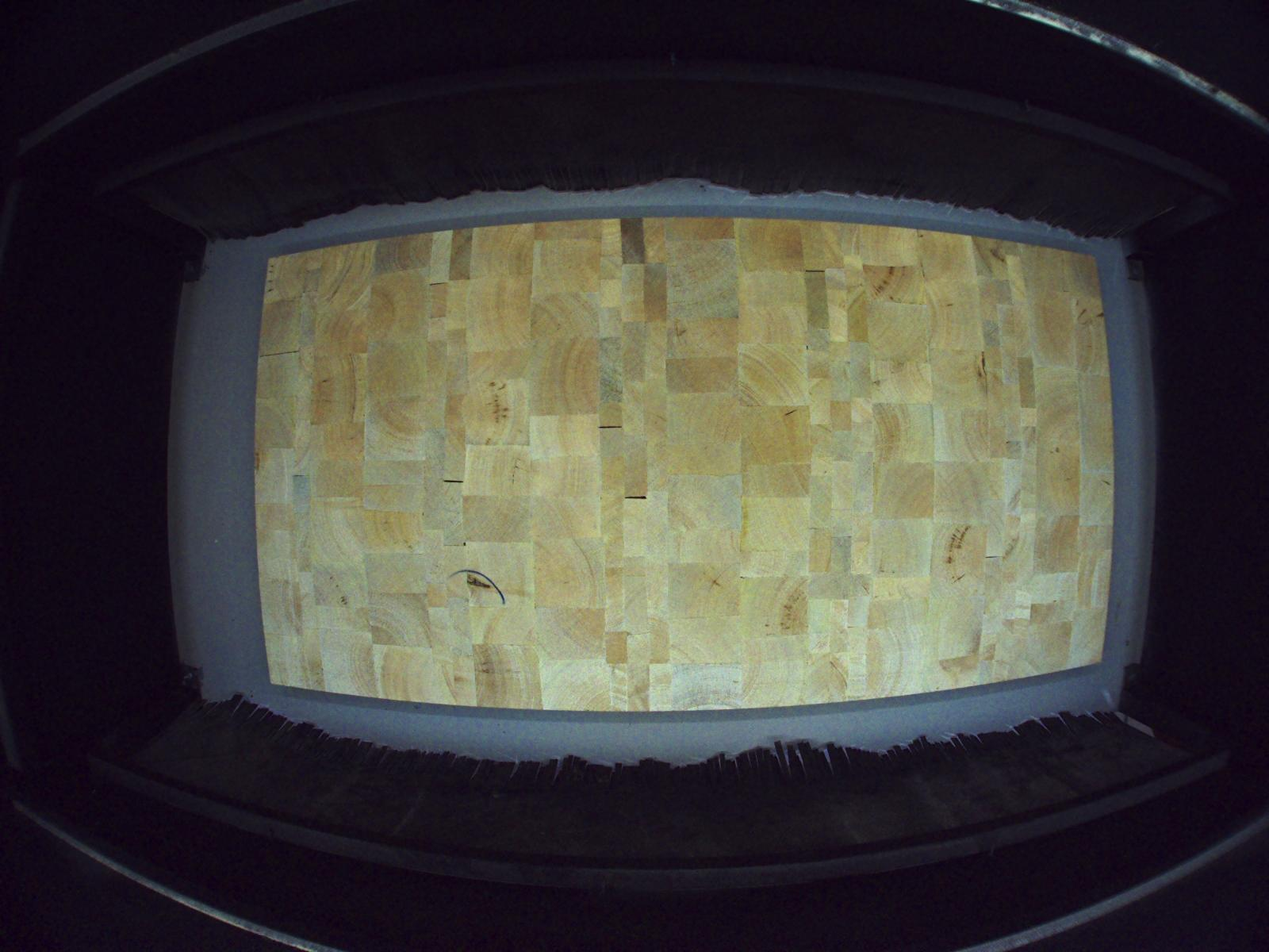nudillo: (467, 573, 493, 591)
